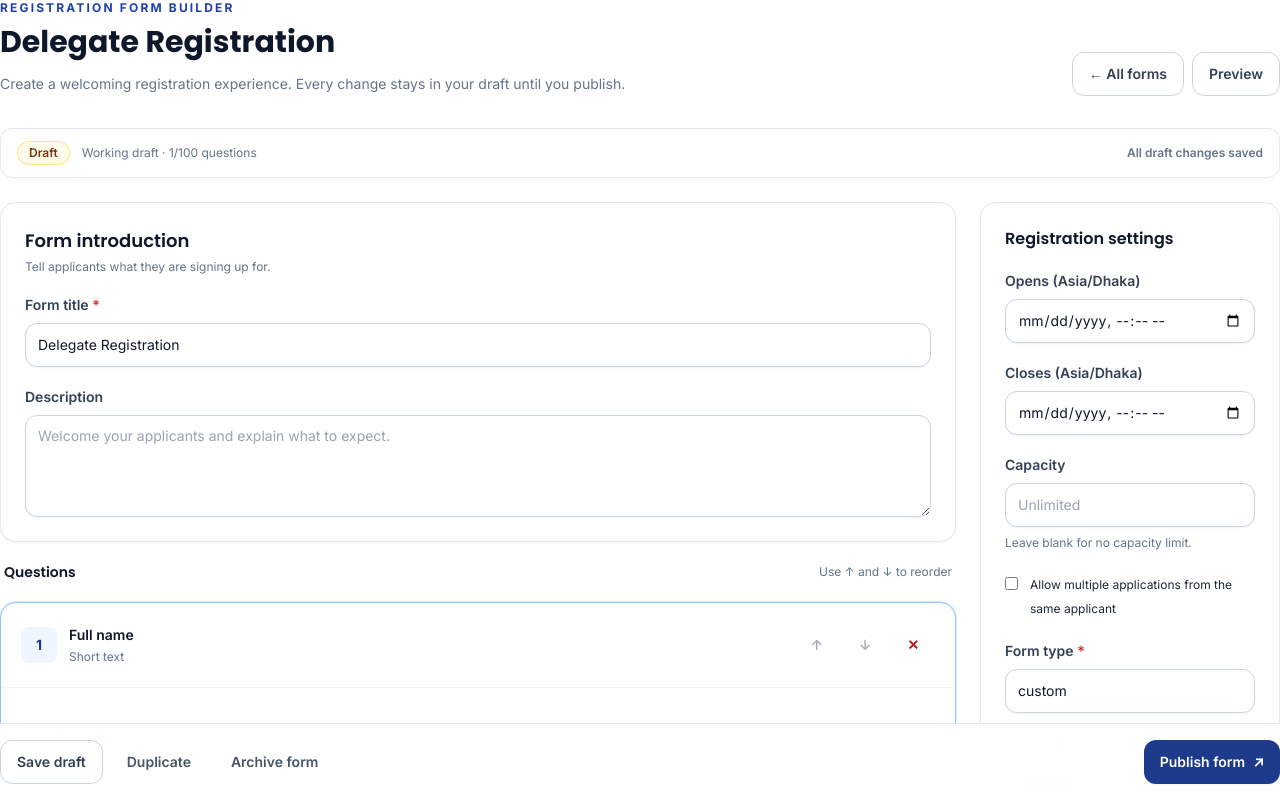
Scenario: no-code form builder › publishes only after the current draft is successfully saved
Expected: the field labelled "Question label *" is shown, 21,756 -> 935,799
Step 1. Click the button "Publish form ↗" → [1212, 762], box 1144,740 -> 1279,784
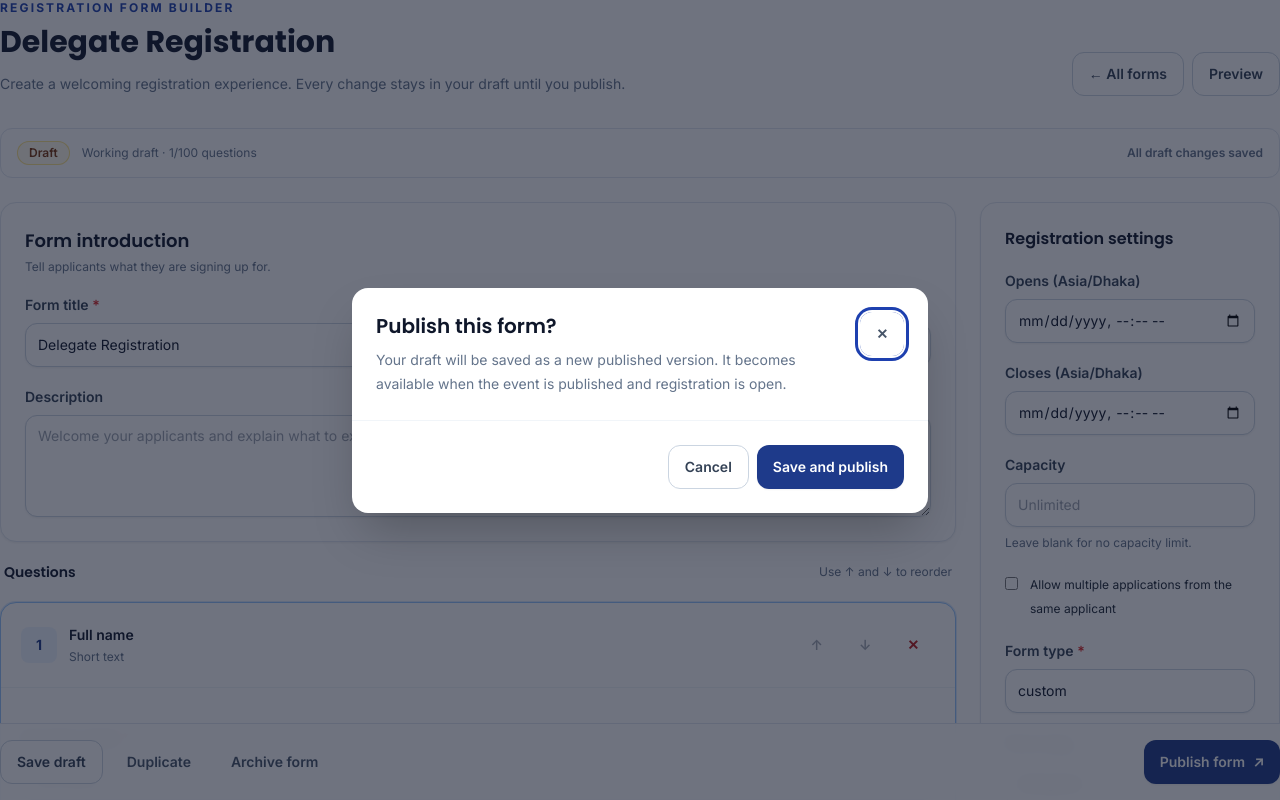
Step 2. Click the button "Save and publish" → [830, 466], box 757,444 -> 904,488
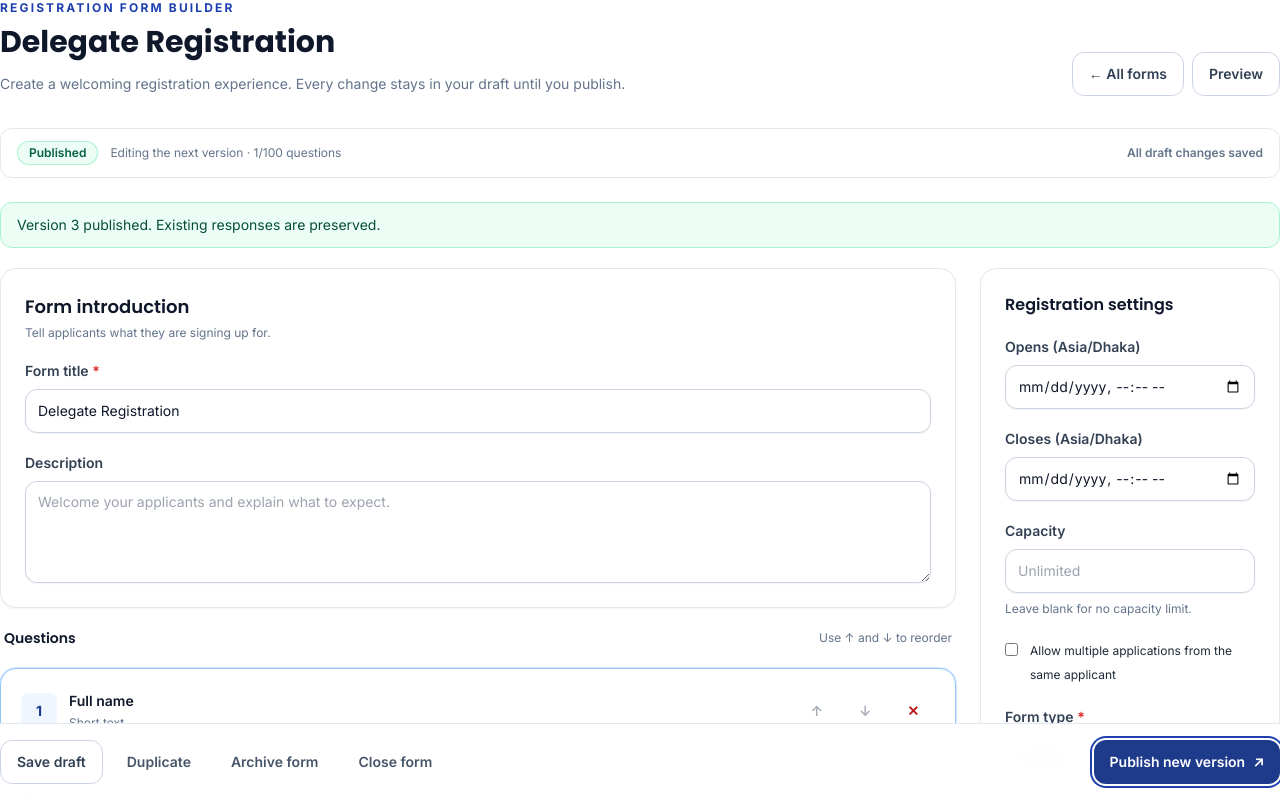
Now the text "Version 3 published. Existing responses are preserved." is shown, box 0,202 -> 1279,248
